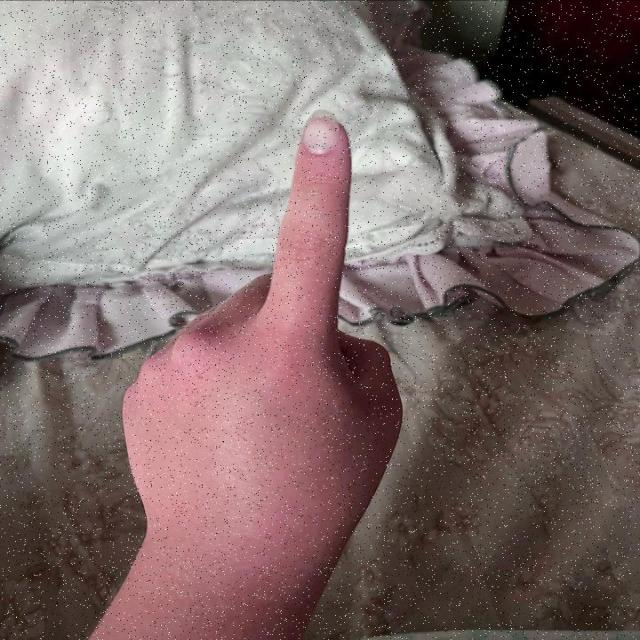D: (104, 105, 414, 544)
